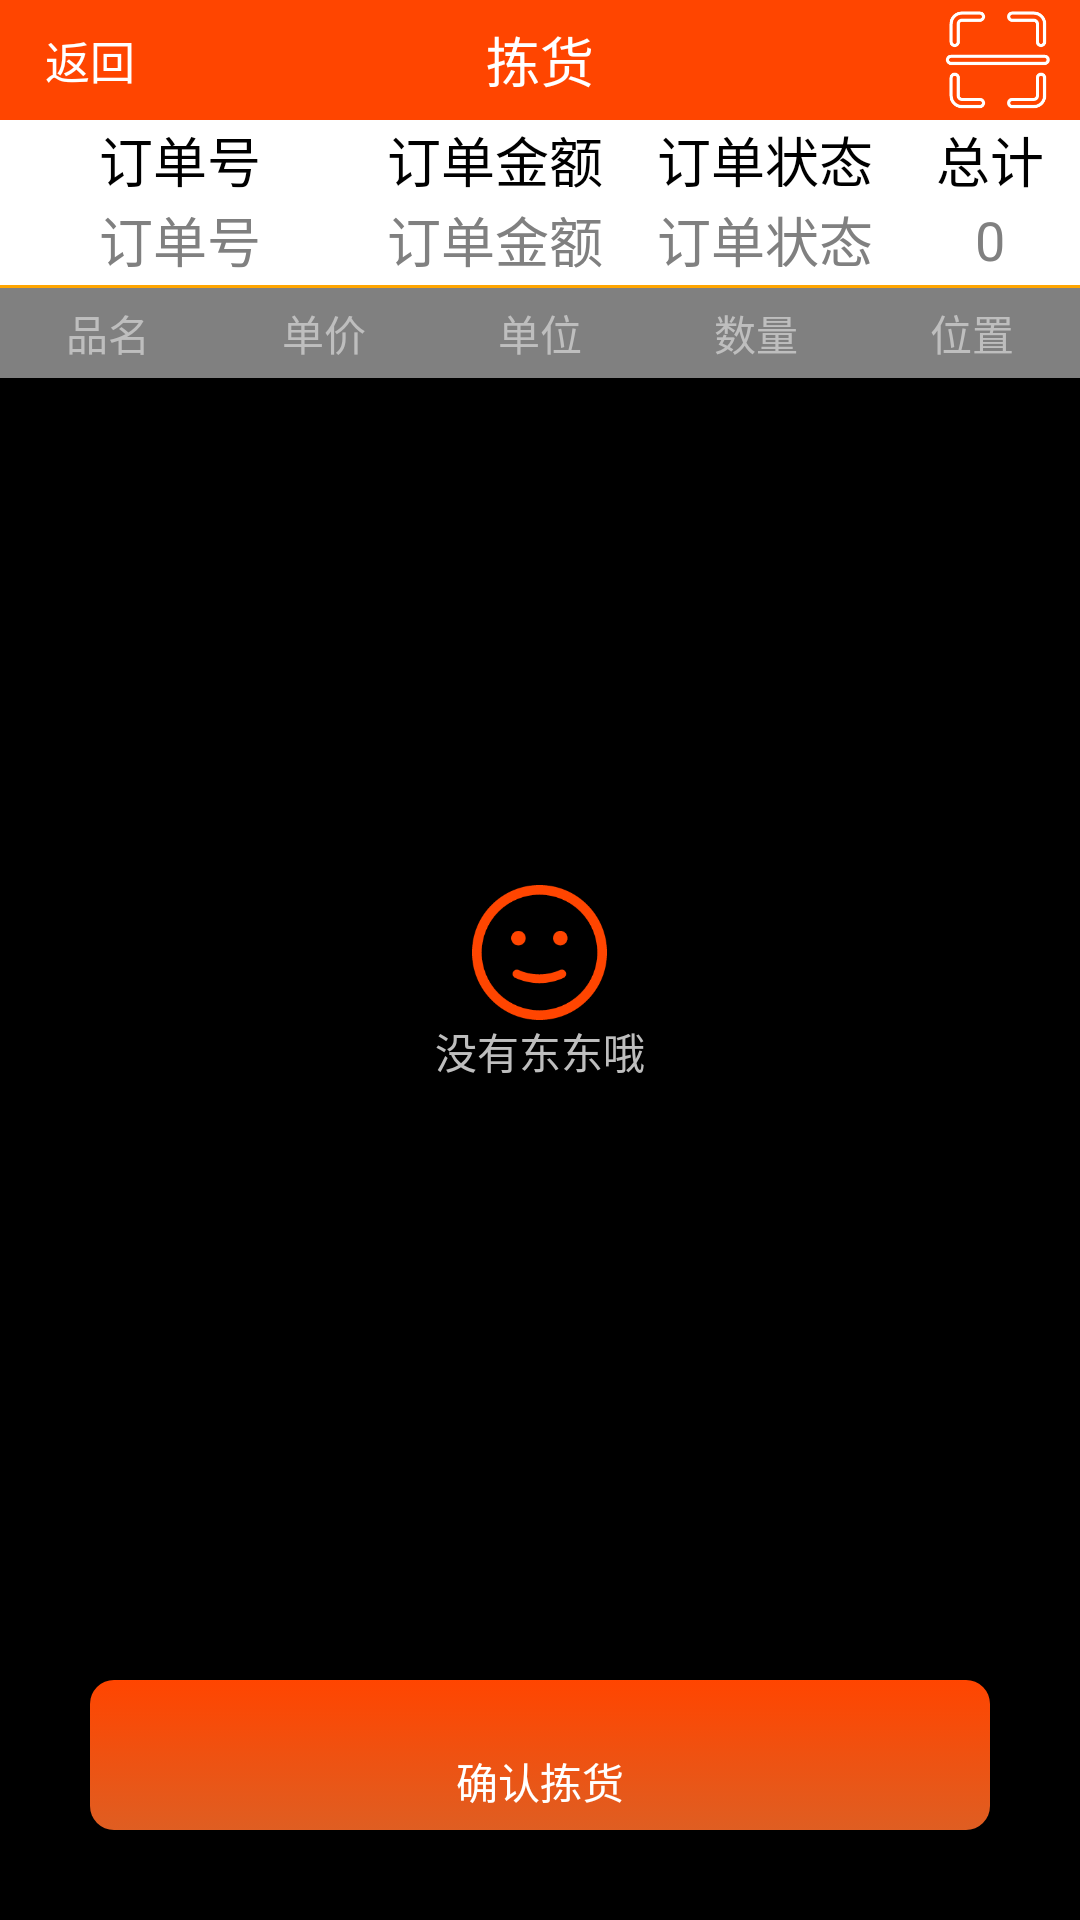

Icons on this 1080x1920 Android screen, each with the point to tap as [x,y]:
scan: [998,60]
smile: [539,952]
